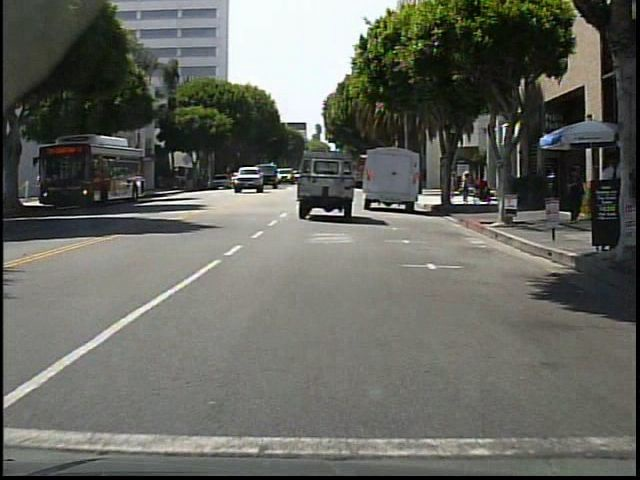person: (592, 149, 623, 249), (566, 168, 585, 224), (460, 169, 472, 205), (448, 166, 459, 204), (40, 170, 41, 198)
